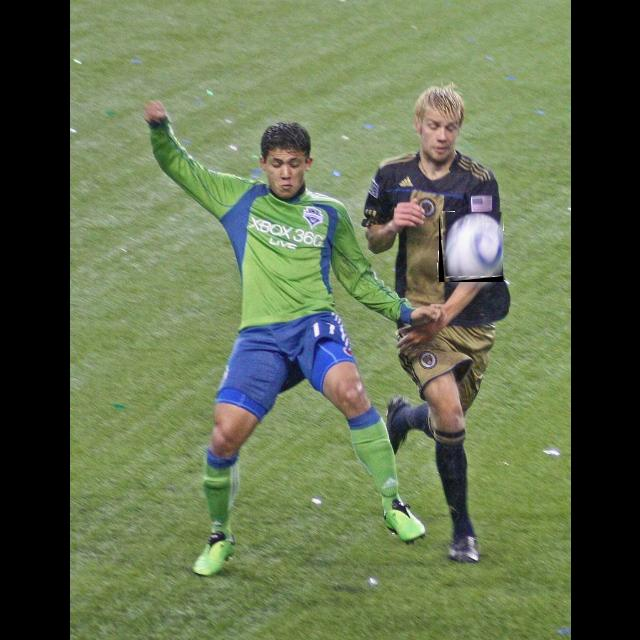Football: (439, 212, 503, 282)
